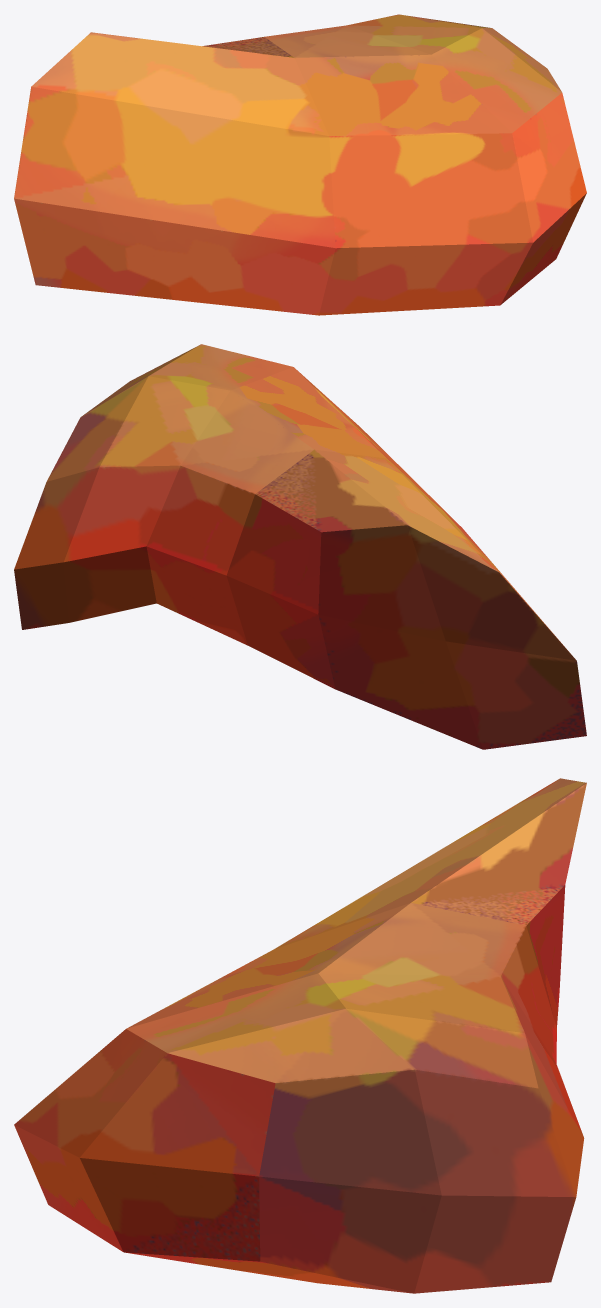
File: Grips1Hollow.fbx
3 views of the same model, one above another, from view 1: azimuth 30°, elevation 25°; view 2: azimuth 150°, elevation 25°; view 3: azimuth 270°, elevation 25° (orthographic). The views are drawn at different scales.
Visible parts, largest first — view 1: Grips1Hollow; view 2: Grips1Hollow; view 3: Grips1Hollow.
Part boxes in pixels (x1,y1,x2,y2): Grips1Hollow: [14, 14, 586, 315]; Grips1Hollow: [14, 344, 586, 749]; Grips1Hollow: [14, 778, 586, 1293].
Bounding box in the file's own units: 2.46 × 3.31 × 1.44.
1 material, 1 textured.
